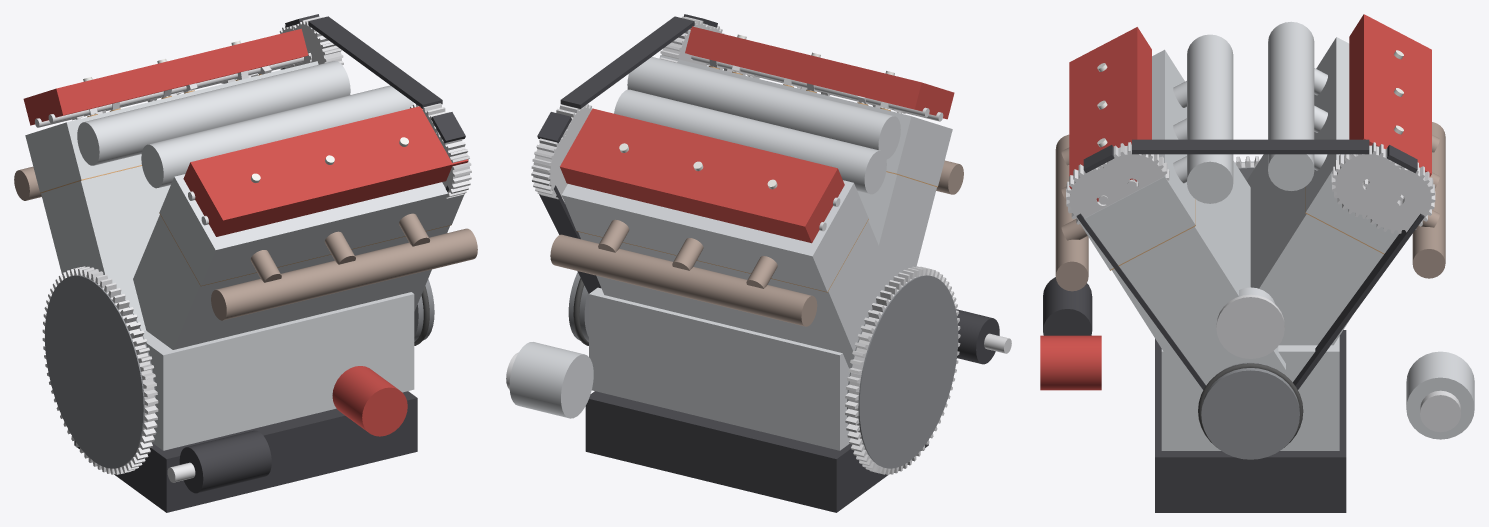
The model's file is combustion_6_v_60p0_8p6_8p6_dohc_4_no_correa_nafta.glb.
3 renders of one model, left to right at view 1: azimuth 30°, elevation 25°; view 2: azimuth 150°, elevation 25°; view 3: azimuth 270°, elevation 25°, orthographic. The views are drawn at different scales.
Visible parts, largest first — view 1: bloque, tapa_valvulas_1, volante_inercia, culata_1, carter, multiple_admision_0, multiple_escape_1, tapa_valvulas_0, multiple_admision_1, culata_0, motor_arranque, distribucion_correa (+5 smaller); view 2: bloque, tapa_valvulas_0, volante_inercia, carter, culata_0, multiple_escape_0, multiple_admision_1, multiple_admision_0, tapa_valvulas_1, alternador, distribucion_correa, culata_1 (+5 smaller); view 3: bloque, carter, distribucion_poleas, tapa_valvulas_0, tapa_valvulas_1, culata_1, distribucion_correa, polea_ciguenal, multiple_admision_1, multiple_admision_0, culata_0, alternador (+5 smaller).
Part boxes in pixels (bbox=[...]): bloque: bbox=[41, 166, 449, 450]; tapa_valvulas_1: bbox=[183, 106, 468, 236]; volante_inercia: bbox=[42, 266, 158, 474]; culata_1: bbox=[159, 174, 464, 285]; carter: bbox=[74, 391, 417, 512]; multiple_admision_0: bbox=[77, 61, 350, 165]; multiple_escape_1: bbox=[211, 213, 477, 320]; tapa_valvulas_0: bbox=[23, 28, 308, 125]; multiple_admision_1: bbox=[141, 85, 413, 188]; culata_0: bbox=[25, 61, 318, 192]; motor_arranque: bbox=[167, 430, 271, 493]; distribucion_correa: bbox=[282, 14, 465, 192]; bloque: bbox=[578, 172, 936, 450]; tapa_valvulas_0: bbox=[560, 108, 844, 243]; volante_inercia: bbox=[845, 266, 960, 474]; carter: bbox=[585, 391, 928, 512]; culata_0: bbox=[561, 180, 868, 291]; multiple_escape_0: bbox=[550, 219, 817, 326]; multiple_admision_1: bbox=[627, 57, 900, 159]; multiple_admision_0: bbox=[614, 89, 886, 194]; tapa_valvulas_1: bbox=[685, 26, 954, 119]; alternador: bbox=[506, 342, 593, 418]; distribucion_correa: bbox=[537, 14, 717, 293]; culata_1: bbox=[659, 55, 952, 186]; bloque: bbox=[1112, 154, 1383, 450]; carter: bbox=[1155, 330, 1346, 512]; distribucion_poleas: bbox=[1066, 142, 1435, 233]; tapa_valvulas_0: bbox=[1349, 14, 1431, 176]; tapa_valvulas_1: bbox=[1069, 27, 1151, 201]; culata_1: bbox=[1079, 49, 1195, 269]; distribucion_correa: bbox=[1076, 139, 1424, 389]; polea_ciguenal: bbox=[1198, 362, 1303, 459]; multiple_admision_1: bbox=[1173, 34, 1233, 203]; multiple_admision_0: bbox=[1268, 21, 1327, 190]; culata_0: bbox=[1305, 37, 1398, 253]; alternador: bbox=[1406, 351, 1474, 439].
Bounding box in the file's own units: 49.36 × 51.33 × 54.61.
